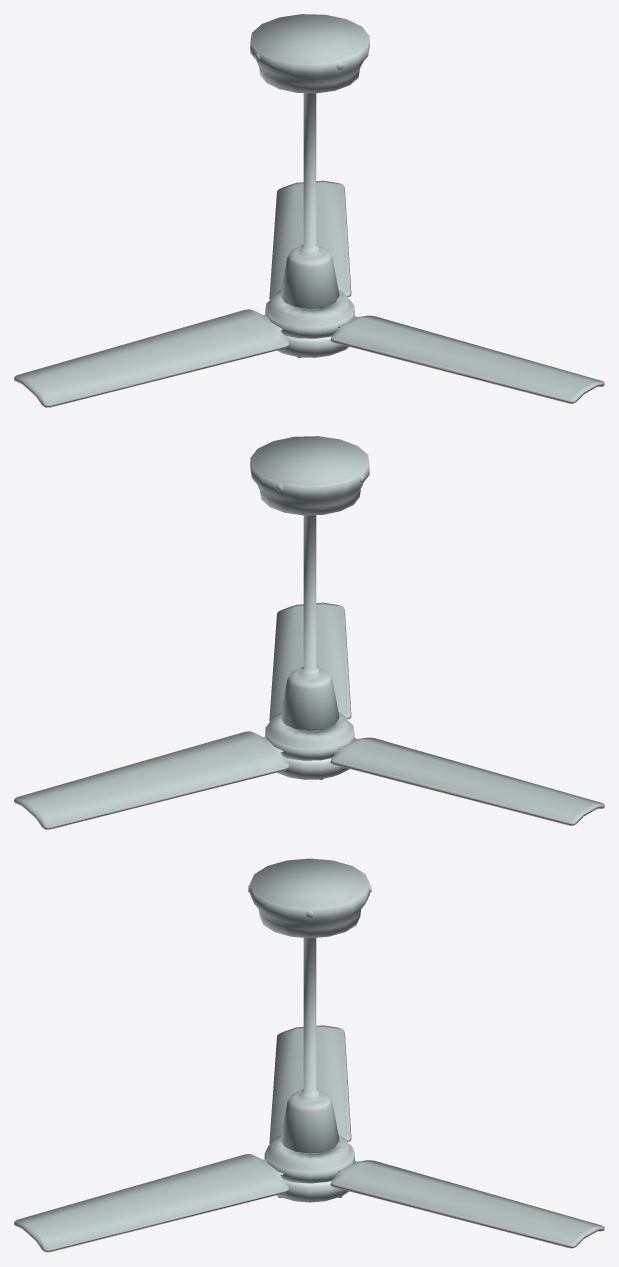
3 views of the same model, one above another, from view 1: azimuth 30°, elevation 25°; view 2: azimuth 150°, elevation 25°; view 3: azimuth 270°, elevation 25° (orthographic).
Bounding box in the file's own units: 15.39 × 10.03 × 17.67.
Materials: 1 (1 with a texture image).
